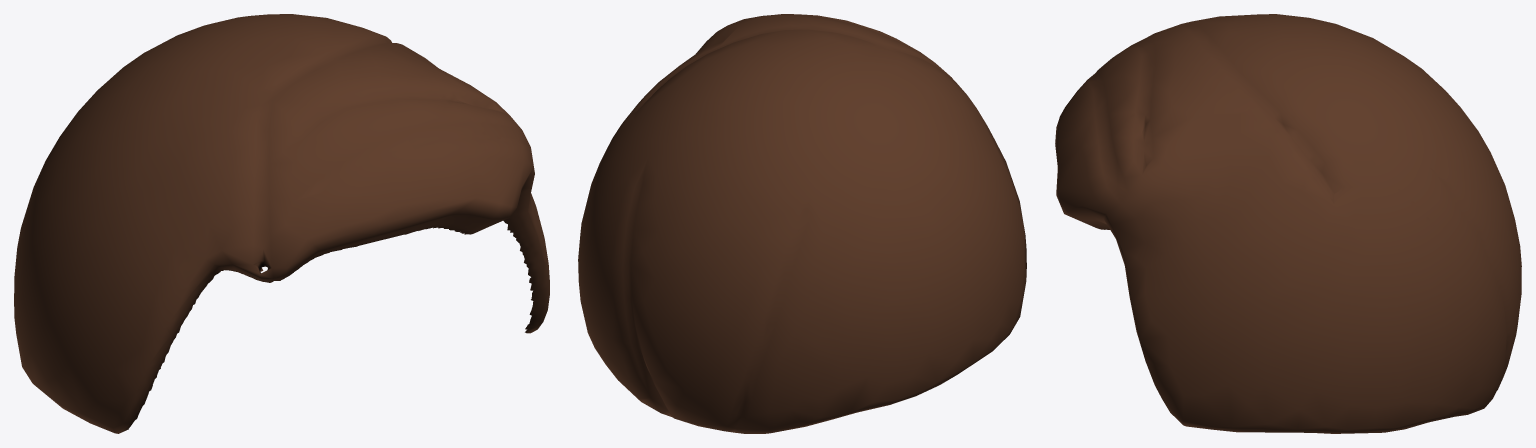
File: hair_side_part.glb
3 views of the same model, side by side, from view 1: azimuth 30°, elevation 25°; view 2: azimuth 150°, elevation 25°; view 3: azimuth 270°, elevation 25° (orthographic). The views are drawn at different scales.
Visible parts, largest first — view 1: hair_side_part; view 2: hair_side_part; view 3: hair_side_part.
Part boxes in pixels (bbox=[...]): hair_side_part: bbox=[14, 14, 549, 433]; hair_side_part: bbox=[578, 14, 1026, 433]; hair_side_part: bbox=[1055, 14, 1521, 433].
Bounding box in the file's own units: 0.5757 × 0.436 × 0.5353.
1 material, 1 textured.
